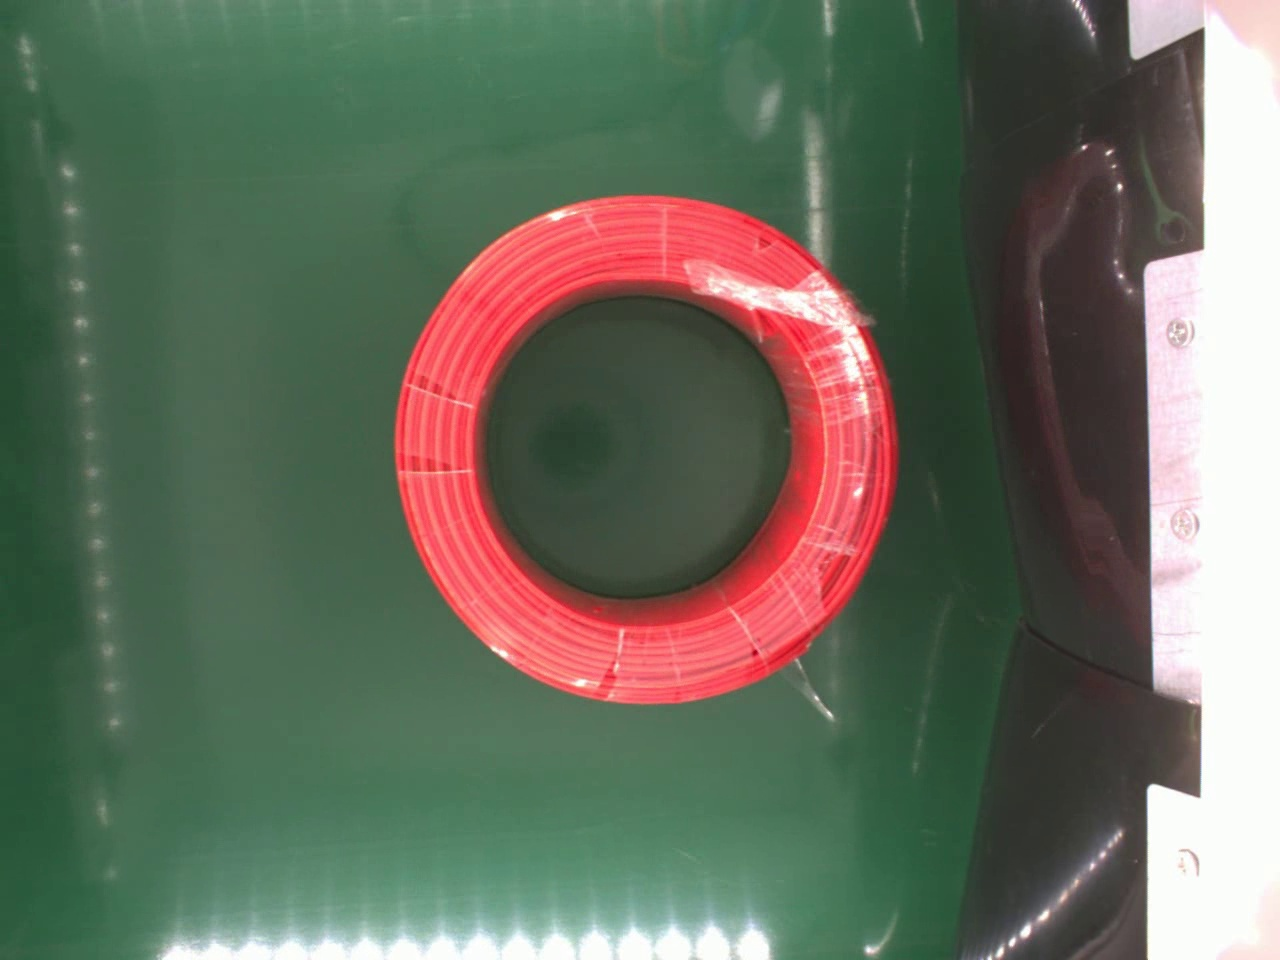red: (391, 196, 901, 707)
